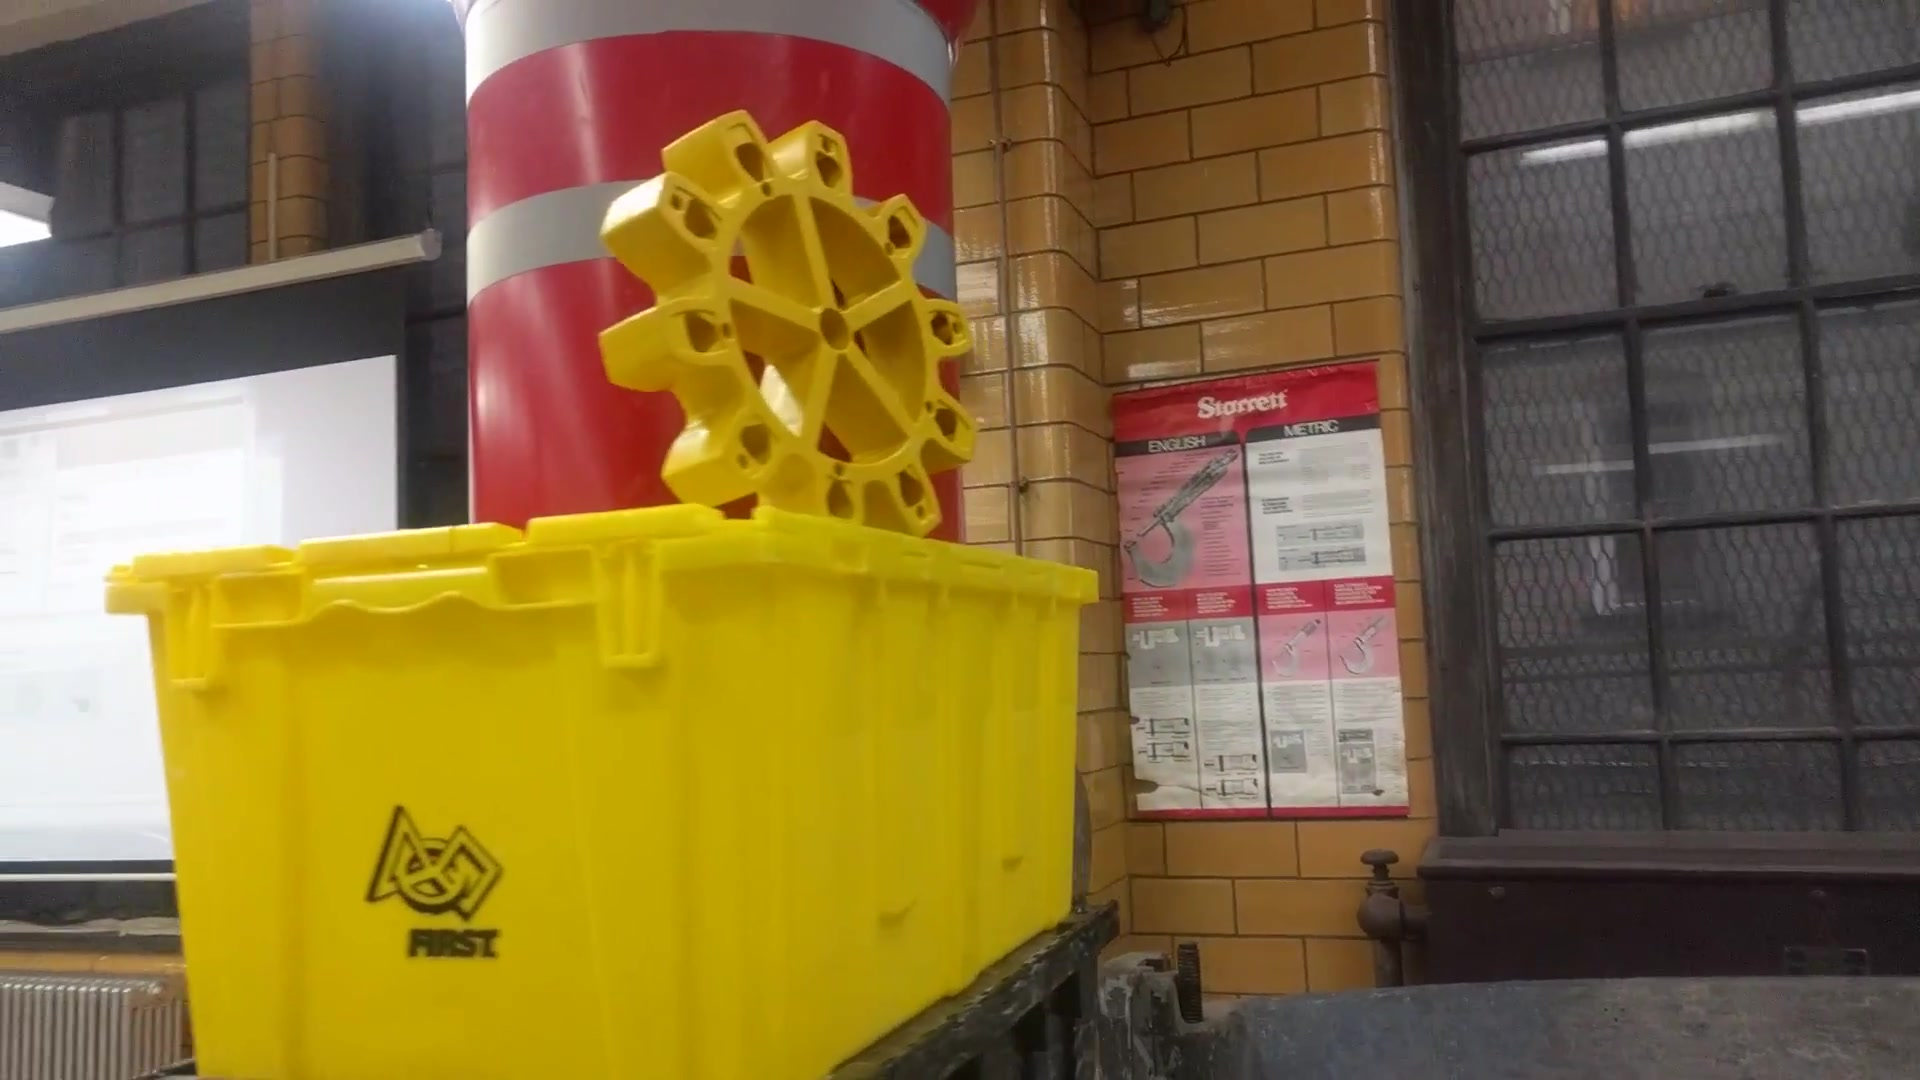gear: (583, 105, 1029, 556)
